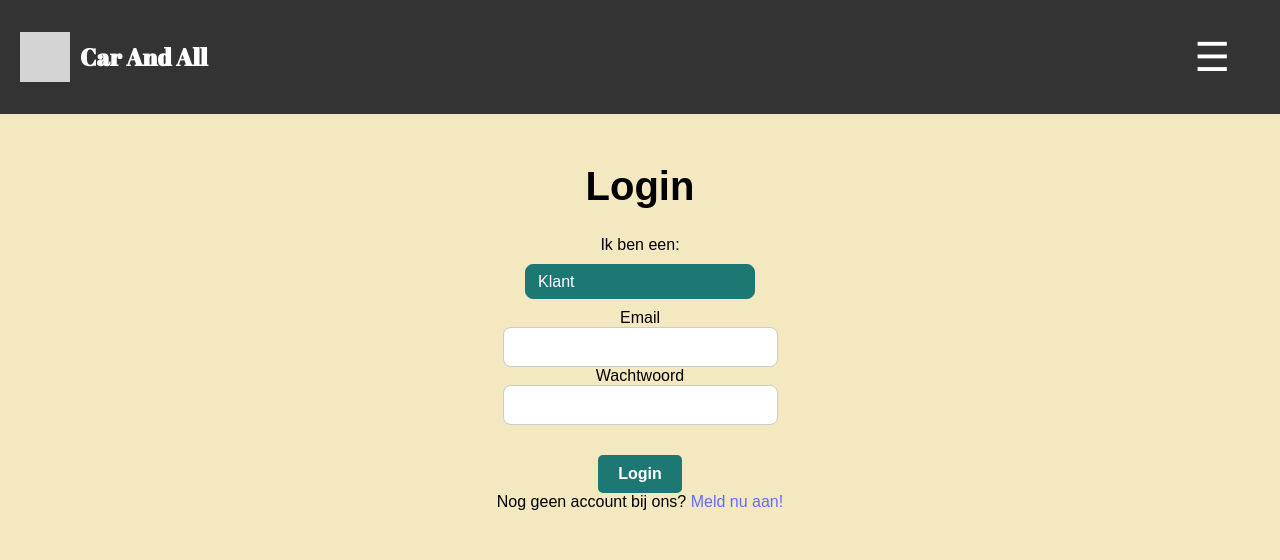
Test: Log in Page › should show an error when required fields are missing
The width and height of the screenshot is (1280, 560).
# Click the login button without filling fields
Click the button "Login" at [640, 474], box [598,455,682,493]
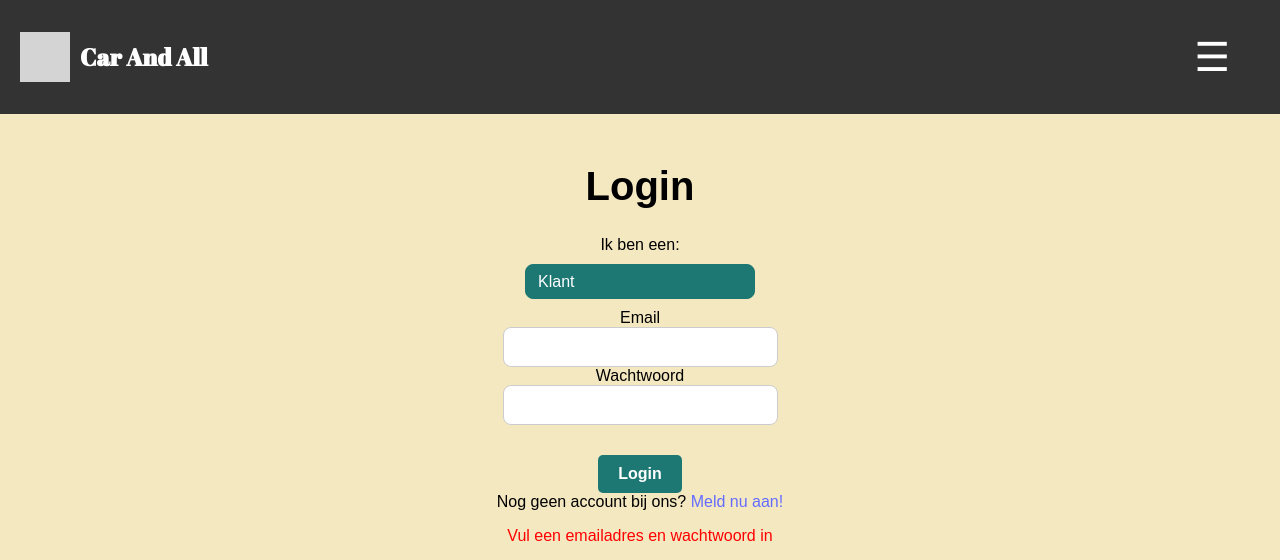
Expected: the text "Vul een emailadres en wachtwoord in" is shown, [507,527,773,544]
